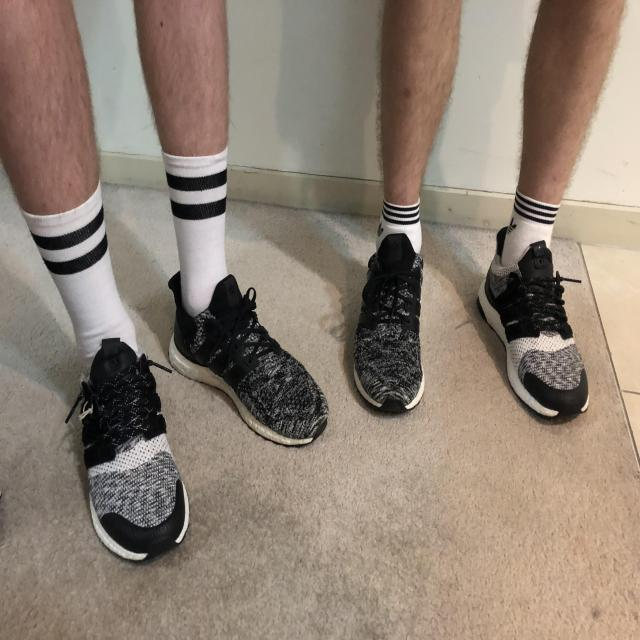shoe: (165, 266, 332, 447), (75, 344, 191, 563), (474, 223, 591, 422), (353, 231, 427, 415)
